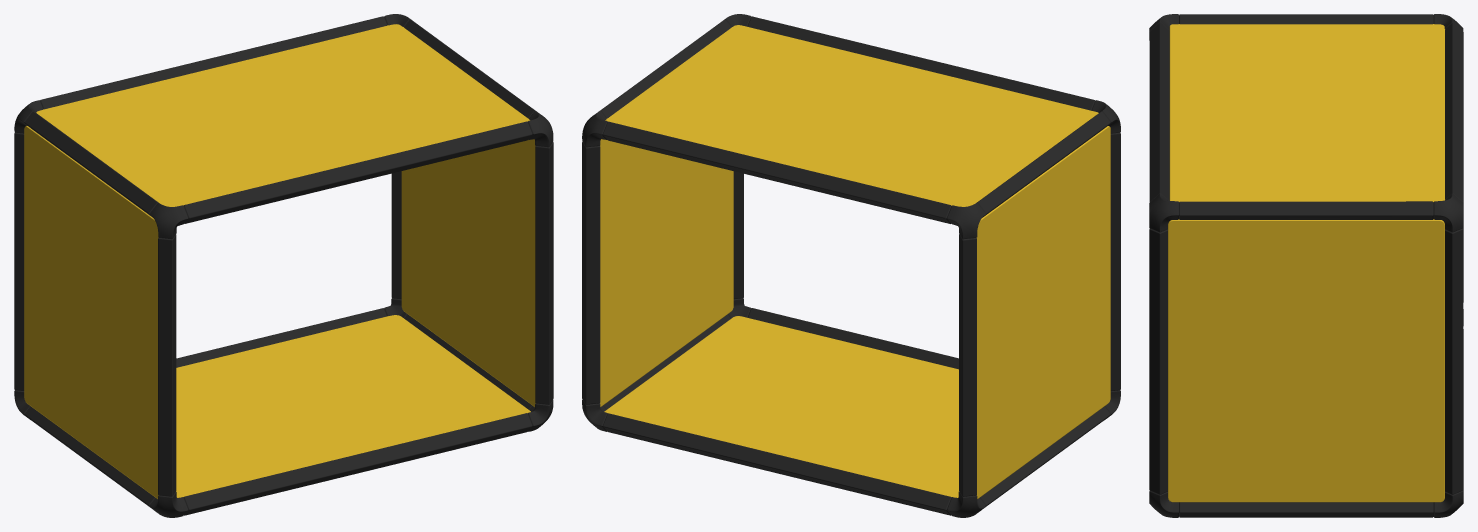
3 renders of one model, left to right at view 1: azimuth 30°, elevation 25°; view 2: azimuth 150°, elevation 25°; view 3: azimuth 270°, elevation 25°, orthographic.
Parts seen in each view (by area): view 1: 523x329x374; view 2: 523x329x374; view 3: 523x329x374.
Boxes of the visible parts, x1,y1,x2,y2 form: 523x329x374: (14,14,553,517); 523x329x374: (582,14,1120,517); 523x329x374: (1149,14,1463,517).
Size of the model in its own units: 0.6007 by 0.4516 by 0.4062.
